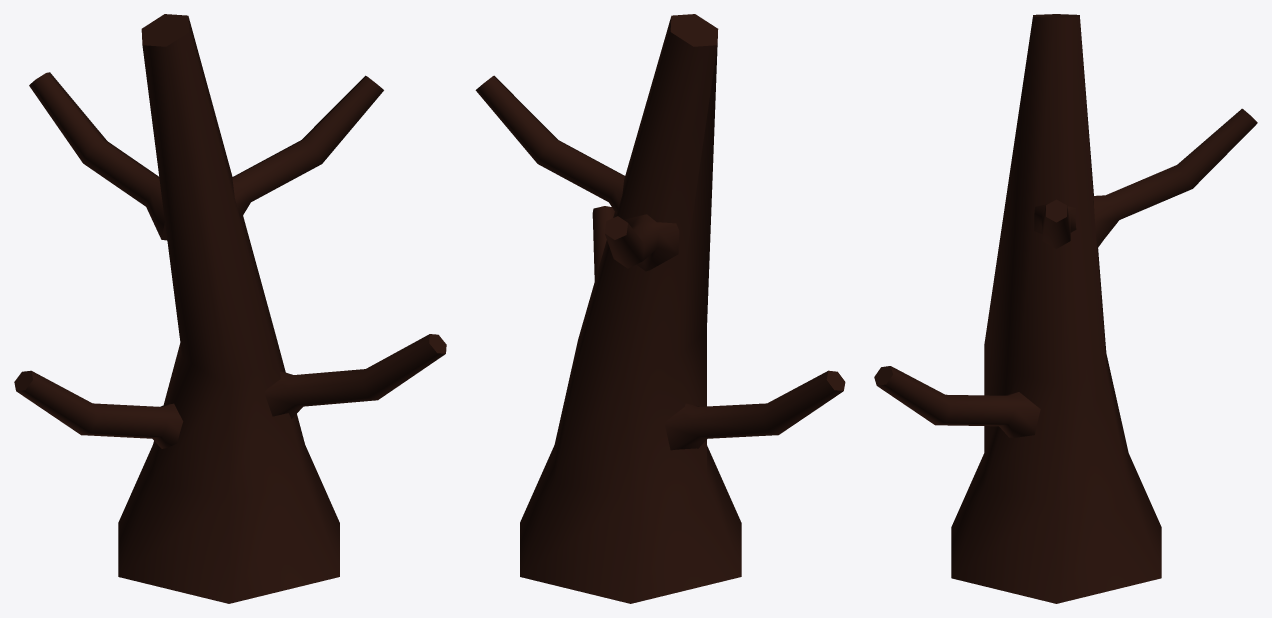
Rendered from tree_stump.FBX.
3 views of the same model, side by side, from view 1: azimuth 30°, elevation 25°; view 2: azimuth 150°, elevation 25°; view 3: azimuth 270°, elevation 25° (orthographic). The views are drawn at different scales.
Visible parts, largest first — view 1: Trunk002; view 2: Trunk002; view 3: Trunk002.
Boxes of the visible parts, x1,y1,x2,y2 form: Trunk002: (14, 14, 446, 603); Trunk002: (475, 14, 845, 603); Trunk002: (874, 14, 1257, 603).
Size of the model in its own units: 18.86 by 26.75 by 18.02.
